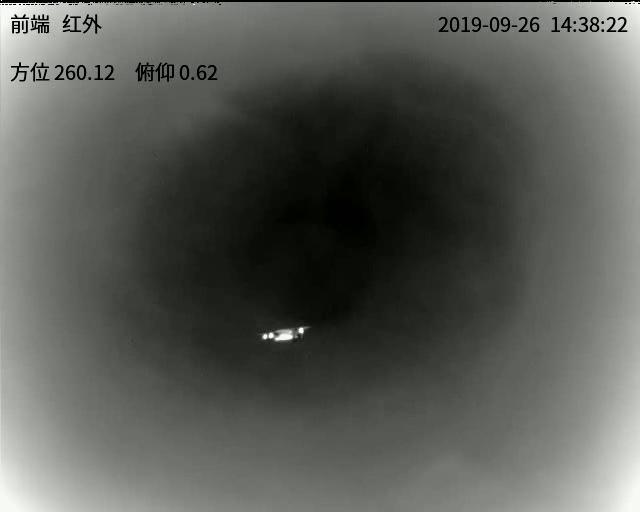DRONE: (259, 324, 309, 343)
